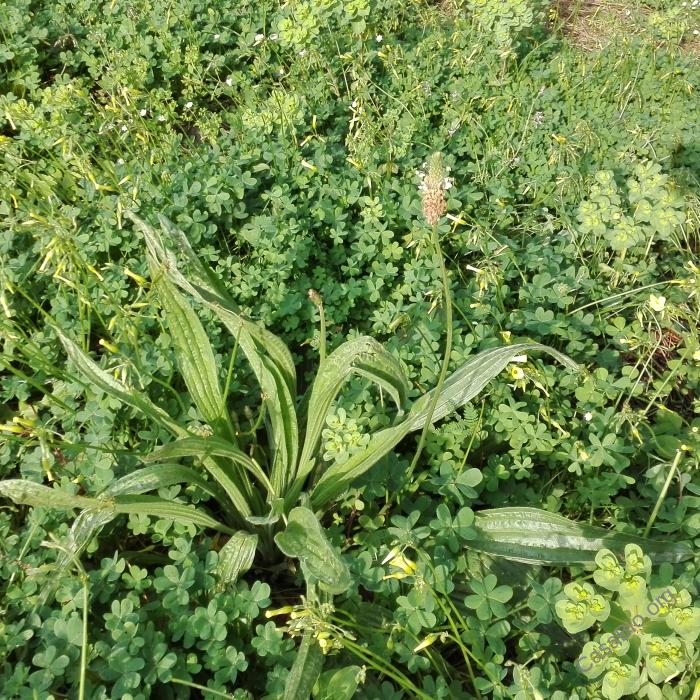buckhorn plantain: (62, 149, 476, 573)
